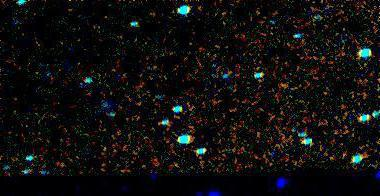star: (270, 70, 300, 100)
